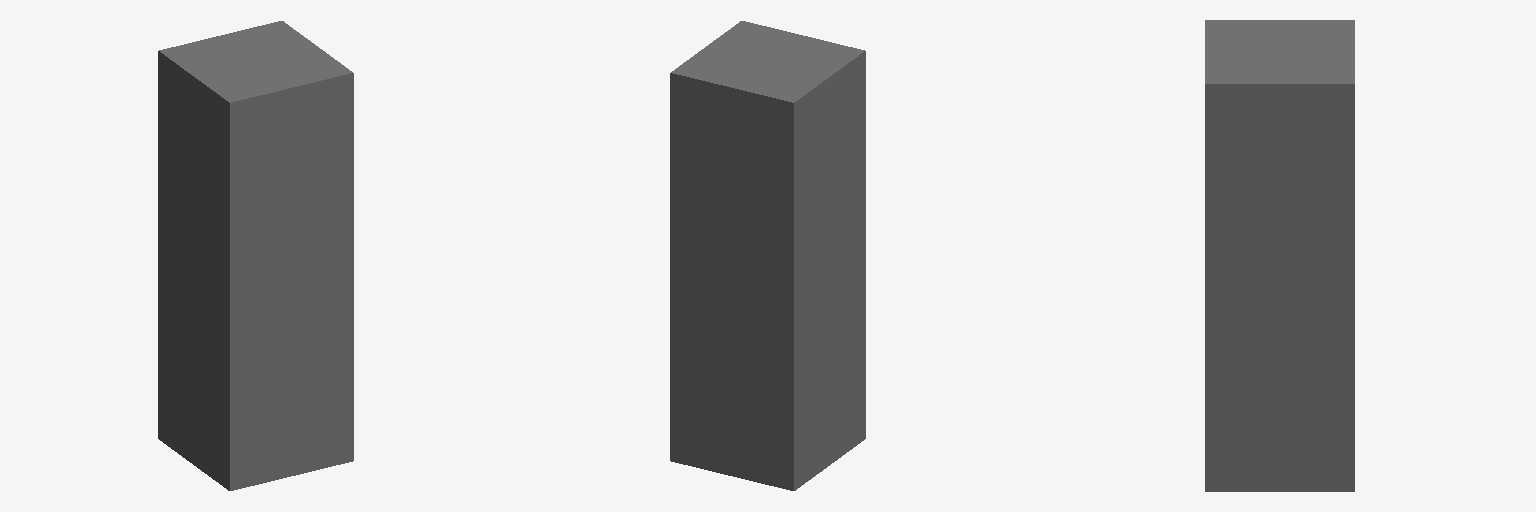
URDF robot description (pbr_mesh):
<?xml version="1.0"?>
<robot name="pbr_mesh">
  <link name="base_link">
    <inertial>
      <origin xyz="0 0 0" rpy="0 0 0"/>
      <mass value="1437.596"/> <!-- Mass in kilograms -->
      <inertia ixx="260.473" ixy="-12.88" ixz="-83.689"
               iyy="313.424" iyz="-26.81"
               izz="134.045"/> <!-- Moments of inertia in kg*m^2 -->
    </inertial>
    <visual>
      <origin xyz="0 0 0" rpy="0 0 0"/>
      <geometry>
        <mesh filename="package://virtual_shake_robot_pybullet/models/double_rock_pbr/merge_block_Final.obj" scale="1.0 1.0 1.0"/>
      </geometry>
      <material name="grey">
        <color rgba="0.5 0.5 0.5 1"/>
      </material>
    </visual>
    <collision>
      <origin xyz="0 0 0" rpy="0 0 0"/>
      <geometry>
        <mesh filename="package://virtual_shake_robot_pybullet/models/double_rock_pbr/merge_block_Final.obj" scale="1.0 1.0 1.0"/>
      </geometry>
    </collision>
  </link>
</robot>

--- Facts derived from the render (not from the file) ---
Views: 3 orthographic renders of the robot side by side, from view 1: azimuth 30°, elevation 25°; view 2: azimuth 150°, elevation 25°; view 3: azimuth 270°, elevation 25°.
Model pbr_mesh with 1 links and 0 joints (none), rooted at base_link, posed every joint at zero.
Visible links, largest first — view 1: base_link; view 2: base_link; view 3: base_link.
Link boxes in pixels (x1=…): base_link: x1=158, y1=21, x2=353, y2=490; base_link: x1=670, y1=21, x2=865, y2=490; base_link: x1=1205, y1=20, x2=1354, y2=491.
Size in the robot's own frame: 0.5 by 0.5 by 1.5 metres.
1 mesh visuals loaded from 1 distinct referenced files (1 OBJ).